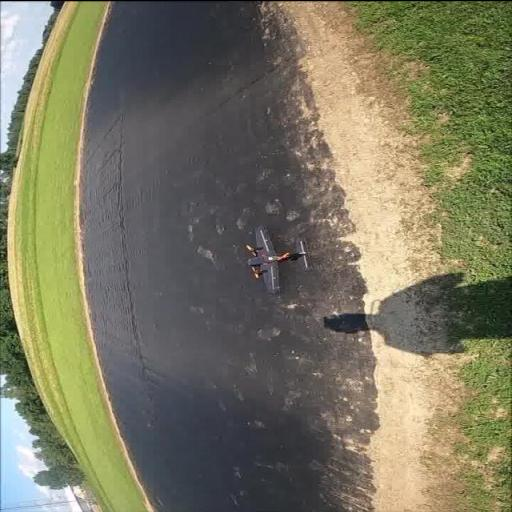uav: (238, 224, 324, 296)
